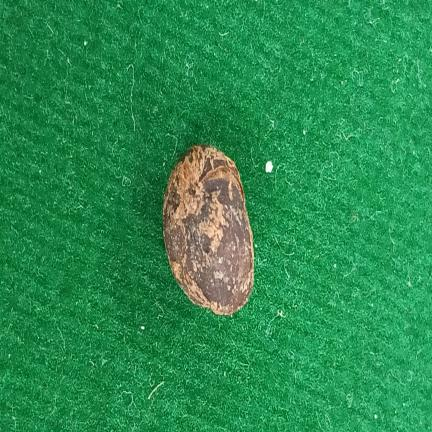husk: (163, 145, 254, 315)
